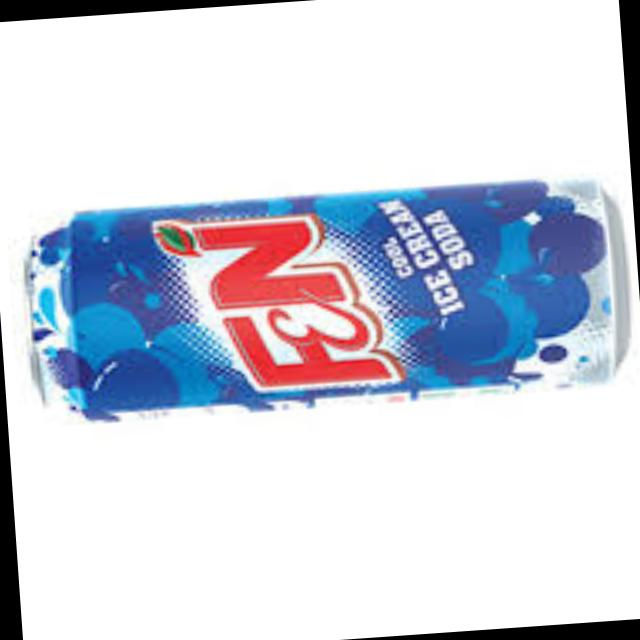metal: (20, 185, 614, 423)
